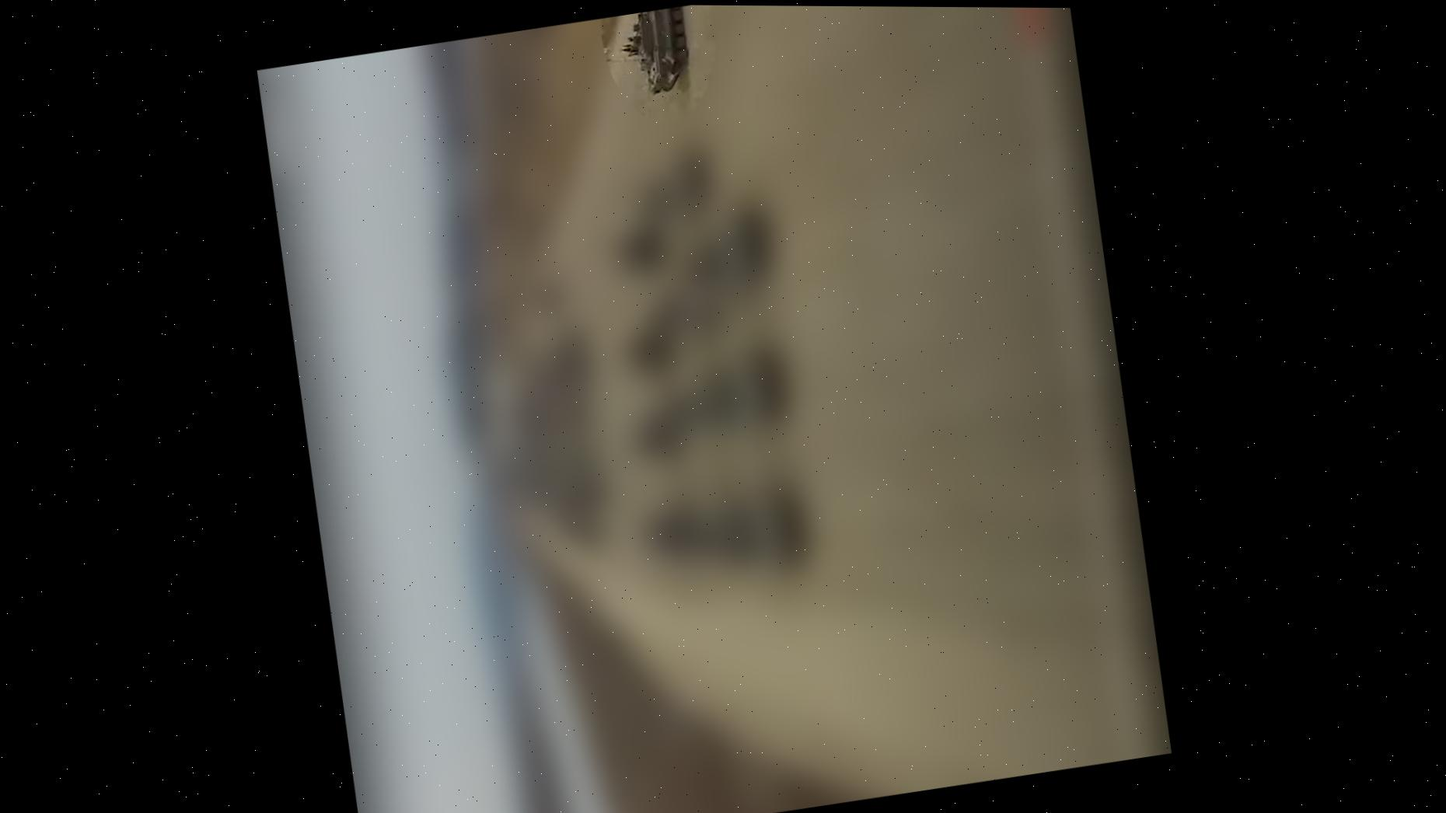tank: (622, 6, 695, 102)
